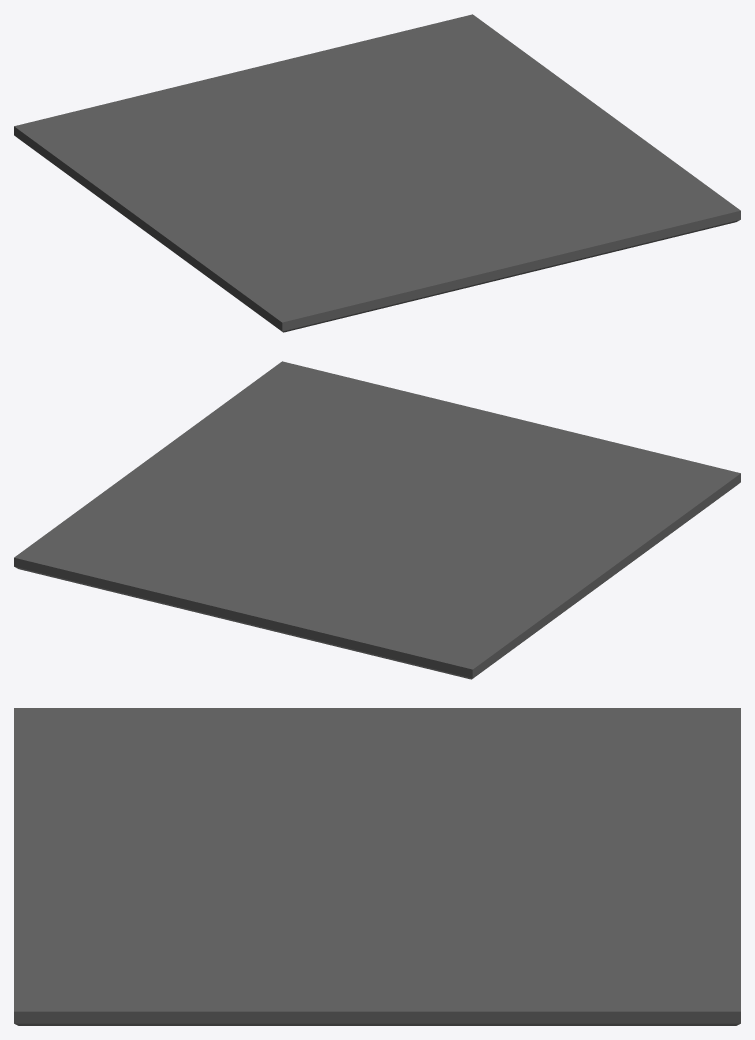
File: Ridge1_1.fbx
The picture shows the model from 3 angles, top to bottom: view 1: azimuth 30°, elevation 25°; view 2: azimuth 150°, elevation 25°; view 3: azimuth 270°, elevation 25°; orthographic projection. The views are drawn at different scales.
Parts seen in each view (by area): view 1: Cube.006; view 2: Cube.006; view 3: Cube.006.
Boxes of the visible parts, box(x1,y1,x2,y2) form: Cube.006: box(14, 14, 740, 332); Cube.006: box(14, 361, 740, 679); Cube.006: box(14, 708, 740, 1025).
Bounding box in the file's own units: 1600 × 40 × 1620.
